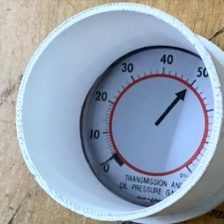gauge: (81, 44, 214, 206)
